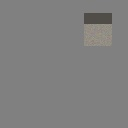supply_truck: (84, 13, 112, 46)
